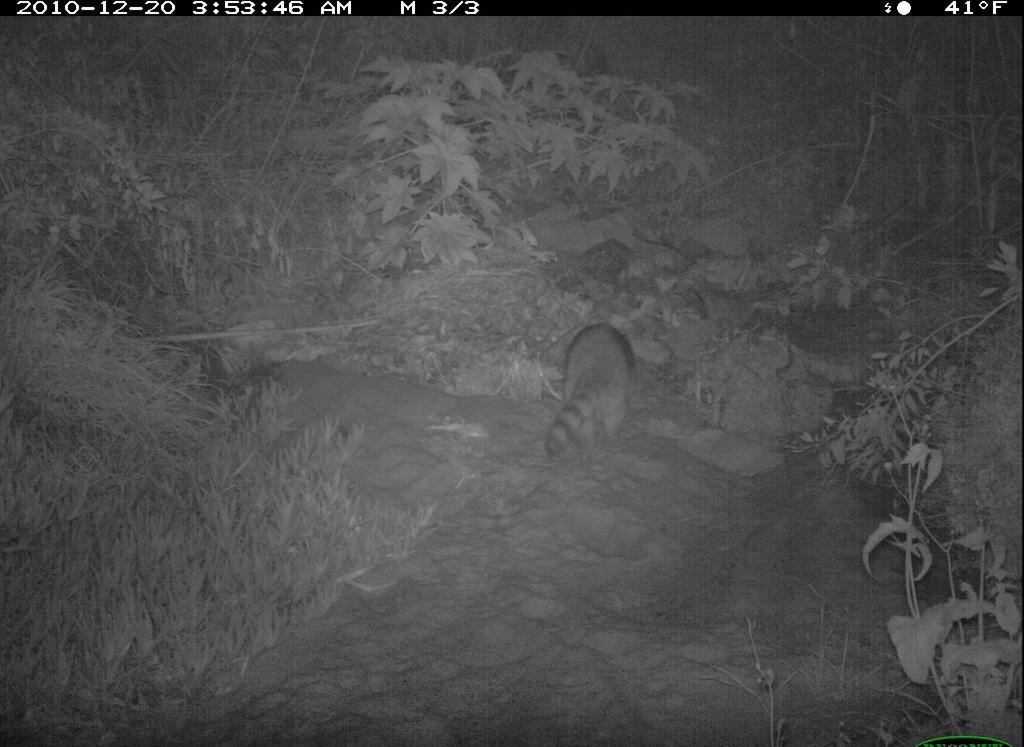raccoon: (529, 306, 656, 472)
